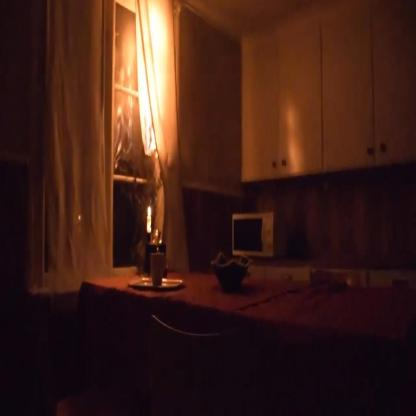fire: (130, 0, 172, 155), (147, 204, 152, 215)
